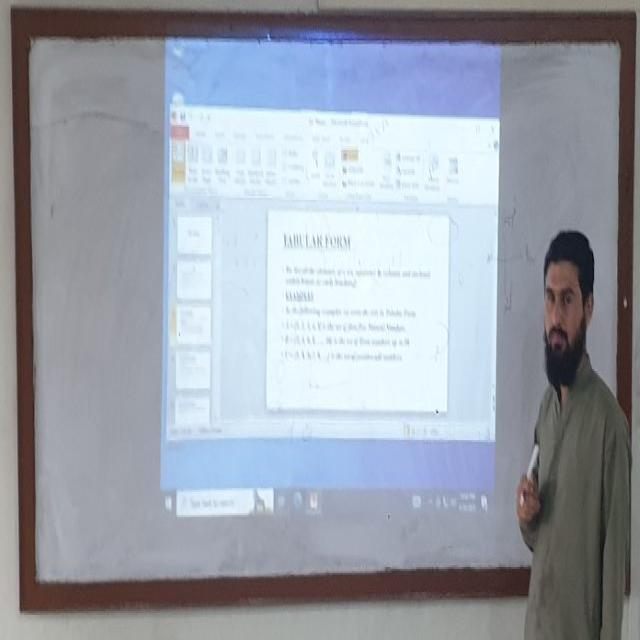Instructor: (528, 206, 624, 614)
Slide: (162, 10, 502, 537)
White-board: (19, 21, 632, 601)
